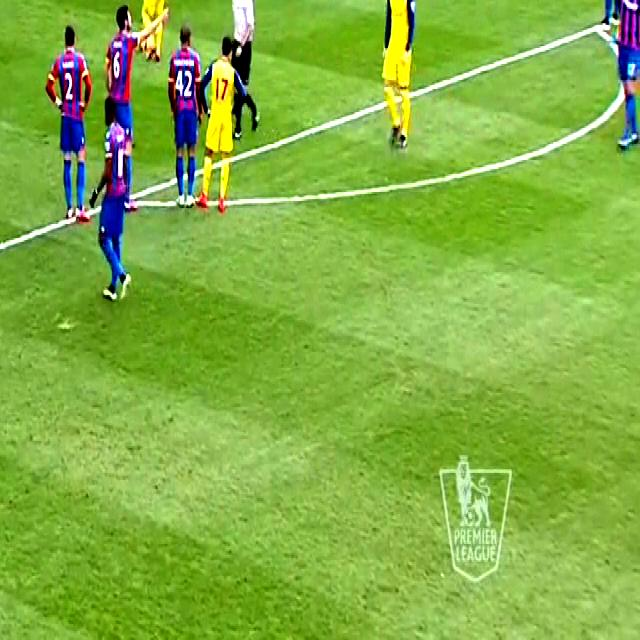referee: (218, 0, 265, 156)
soccer-player: (42, 8, 101, 235), (83, 95, 137, 305), (196, 28, 248, 231), (170, 10, 217, 210), (100, 0, 142, 210), (374, 0, 426, 156), (610, 0, 639, 156), (129, 0, 170, 75), (581, 0, 637, 44)
